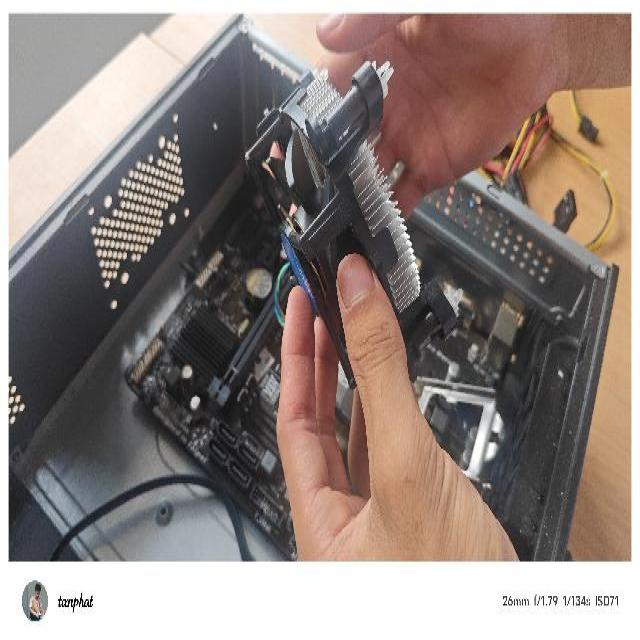CPU_Fan: (243, 52, 470, 393)
